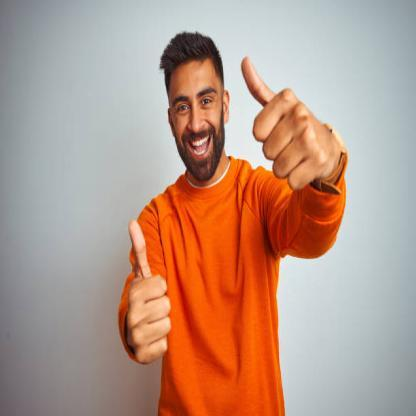thumb_up: (239, 54, 332, 194), (124, 219, 175, 367)
